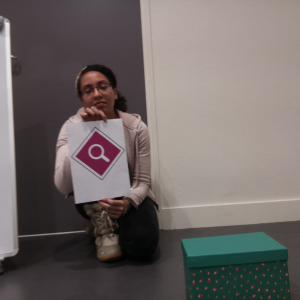big: (1, 13, 20, 266)
small: (180, 234, 289, 300)
